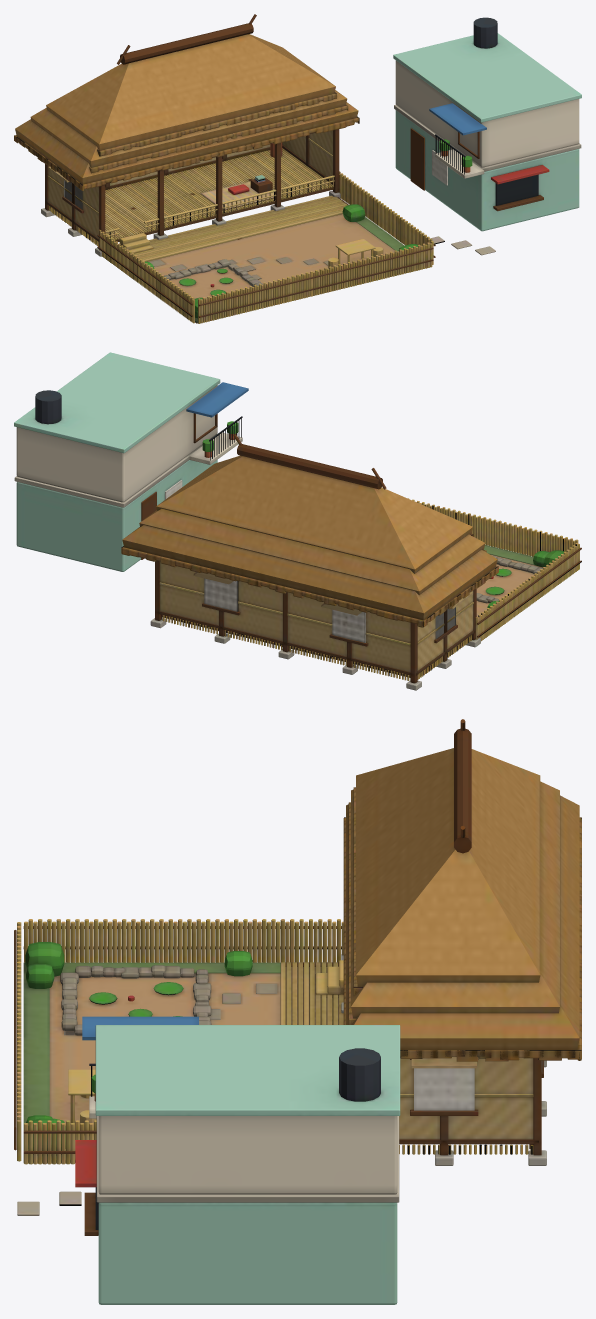
File: valora-house-ph.glb
The picture shows the model from 3 angles, top to bottom: view 1: azimuth 30°, elevation 25°; view 2: azimuth 150°, elevation 25°; view 3: azimuth 270°, elevation 25°; orthographic projection. The views are drawn at different scales.
Parts seen in each view (by area): view 1: valora-house-ph; view 2: valora-house-ph; view 3: valora-house-ph.
Boxes of the visible parts, bbox=[...] form: valora-house-ph: bbox=[14, 14, 581, 323]; valora-house-ph: bbox=[14, 352, 581, 690]; valora-house-ph: bbox=[14, 719, 581, 1304].
Size of the model in its own units: 18.28 by 7.41 by 12.16.
Materials: 19 (19 with a texture image).
